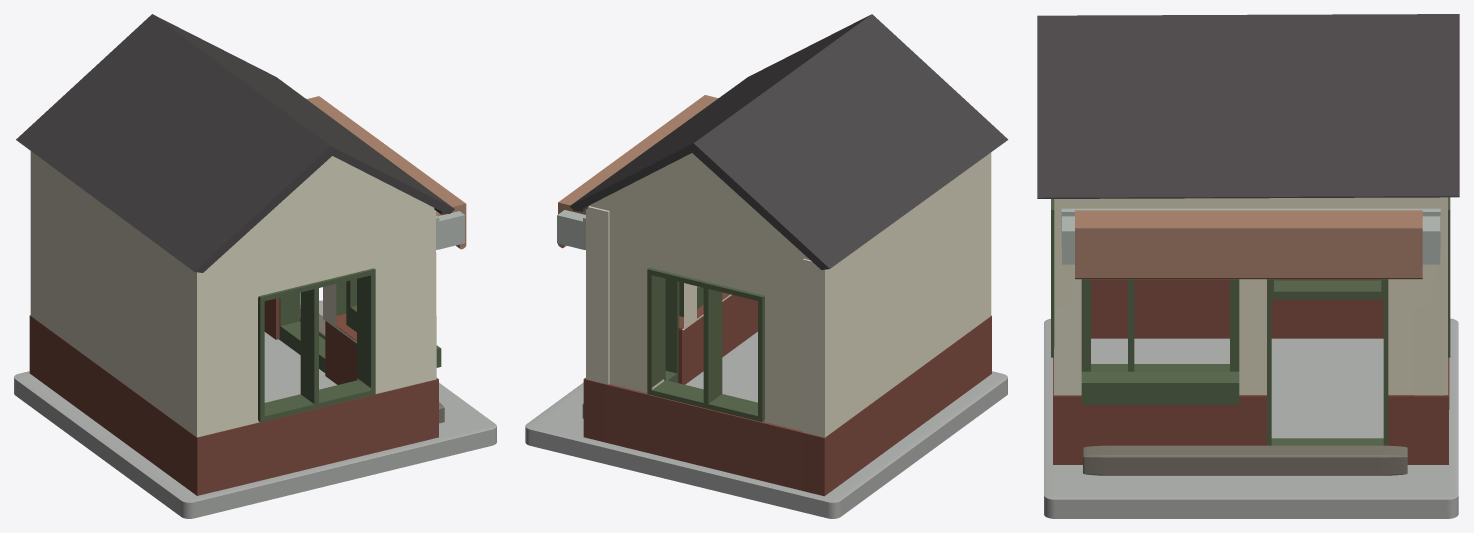
The model's file is 小卖部.fbx.
3 views of the same model, side by side, from view 1: azimuth 30°, elevation 25°; view 2: azimuth 150°, elevation 25°; view 3: azimuth 270°, elevation 25° (orthographic). The views are drawn at different scales.
Parts seen in each view (by area): view 1: 立方体, 红墙左.001, 白墙后.001, 地基, 红墙左, 红墙后, 窗1, 红墙前.002, 门帘, door, 门帘柱, 前窗 (+2 smaller); view 2: 立方体, 白墙后.001, 红墙左.002, 地基, 红墙右, 红墙后, 窗, 白墙后.002, 红墙前.002, 门帘, door, 红墙前.001 (+1 smaller); view 3: 立方体, 地基, 门帘, 白墙后.002, 红墙后, 红墙前.002, 立方体.001, 前窗, door, 红墙前.001, 红墙左.002, 红墙左.001 (+3 smaller).
Part boxes in pixels (x1=…): 立方体: x1=16, y1=14, x2=454, y2=272; 红墙左.001: x1=196, y1=156, x2=436, y2=437; 白墙后.001: x1=30, y1=151, x2=196, y2=436; 地基: x1=14, y1=300, x2=496, y2=518; 红墙左: x1=216, y1=384, x2=416, y2=491; 红墙后: x1=29, y1=315, x2=216, y2=495; 窗1: x1=258, y1=268, x2=375, y2=422; 红墙前.002: x1=325, y1=313, x2=438, y2=442; 门帘: x1=306, y1=96, x2=466, y2=249; door: x1=279, y1=281, x2=346, y2=372; 门帘柱: x1=305, y1=98, x2=464, y2=249; 前窗: x1=346, y1=279, x2=441, y2=367; 立方体: x1=569, y1=14, x2=1008, y2=269; 白墙后.001: x1=802, y1=152, x2=990, y2=437; 红墙左.002: x1=589, y1=153, x2=809, y2=430; 地基: x1=525, y1=331, x2=1007, y2=518; 红墙右: x1=604, y1=384, x2=805, y2=490; 红墙后: x1=802, y1=315, x2=991, y2=496; 窗: x1=647, y1=267, x2=764, y2=421; 白墙后.002: x1=586, y1=206, x2=731, y2=384; 红墙前.002: x1=678, y1=292, x2=757, y2=384; 门帘: x1=558, y1=95, x2=718, y2=248; door: x1=665, y1=278, x2=679, y2=382; 红墙前.001: x1=583, y1=377, x2=605, y2=442; 立方体: x1=1037, y1=14, x2=1459, y2=198; 地基: x1=1044, y1=318, x2=1458, y2=518; 门帘: x1=1075, y1=210, x2=1422, y2=279; 白墙后.002: x1=1055, y1=197, x2=1447, y2=394; 红墙后: x1=1091, y1=279, x2=1383, y2=338; 红墙前.002: x1=1053, y1=383, x2=1266, y2=464; 立方体.001: x1=1083, y1=445, x2=1407, y2=475; 前窗: x1=1081, y1=279, x2=1239, y2=404; door: x1=1267, y1=279, x2=1388, y2=445; 红墙前.001: x1=1388, y1=383, x2=1448, y2=464; 红墙左.002: x1=1414, y1=199, x2=1444, y2=395; 红墙左.001: x1=1054, y1=199, x2=1084, y2=395.
Bounding box in the file's own units: 358 × 374 × 352.
